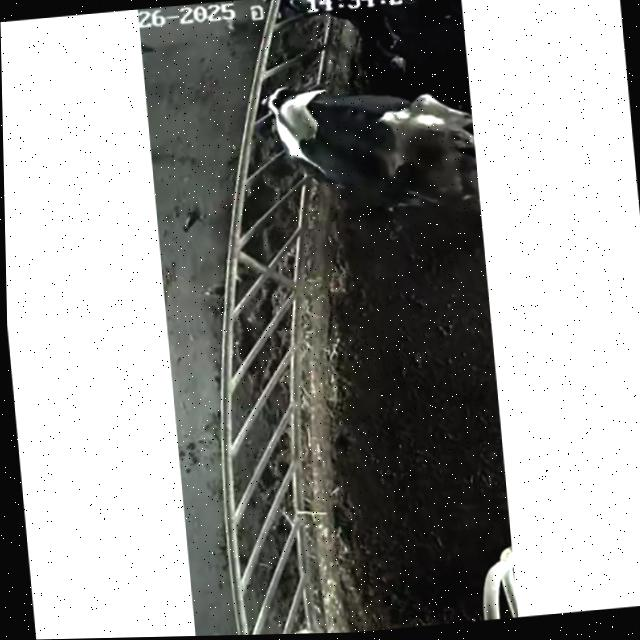eat: (218, 62, 354, 196), (241, 0, 364, 33)
